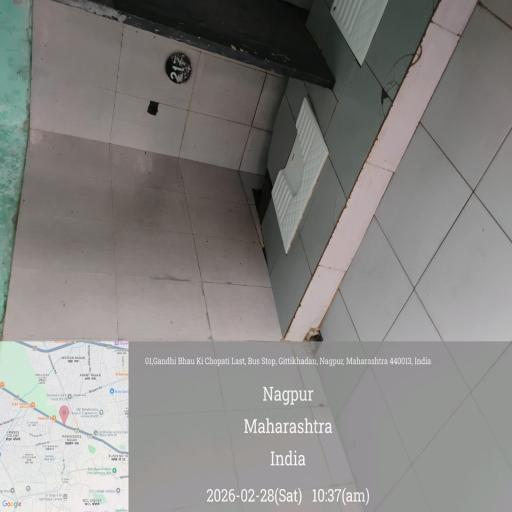clean_floor: (50, 161, 240, 466)
clean_indian: (251, 114, 361, 247)
